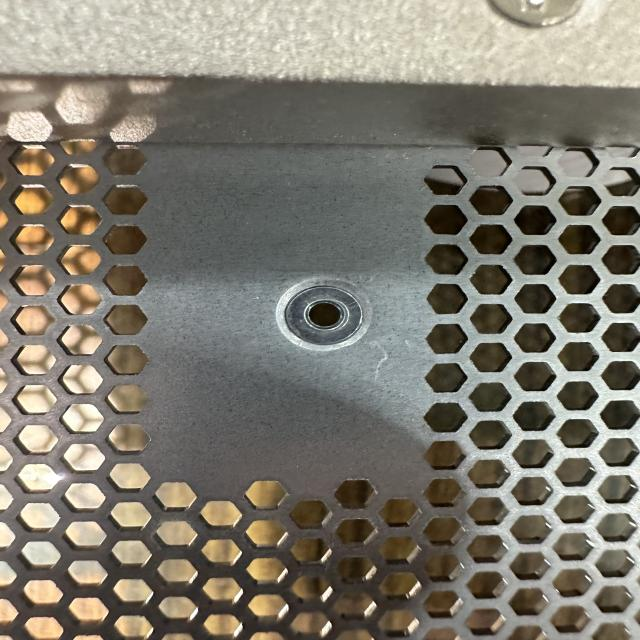Missing screw: (267, 273, 380, 356)
